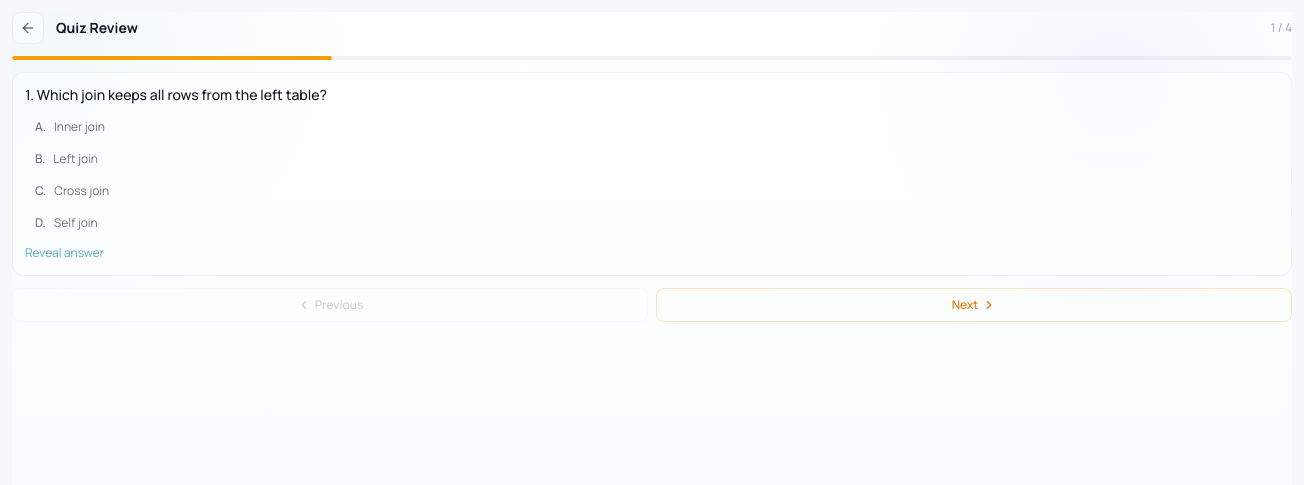
Test: QuizReviewMode › records a review assessment after revealing the answer
The width and height of the screenshot is (1304, 485).
Click the button "Reveal answer" at (65, 253), box [25,245,104,261]
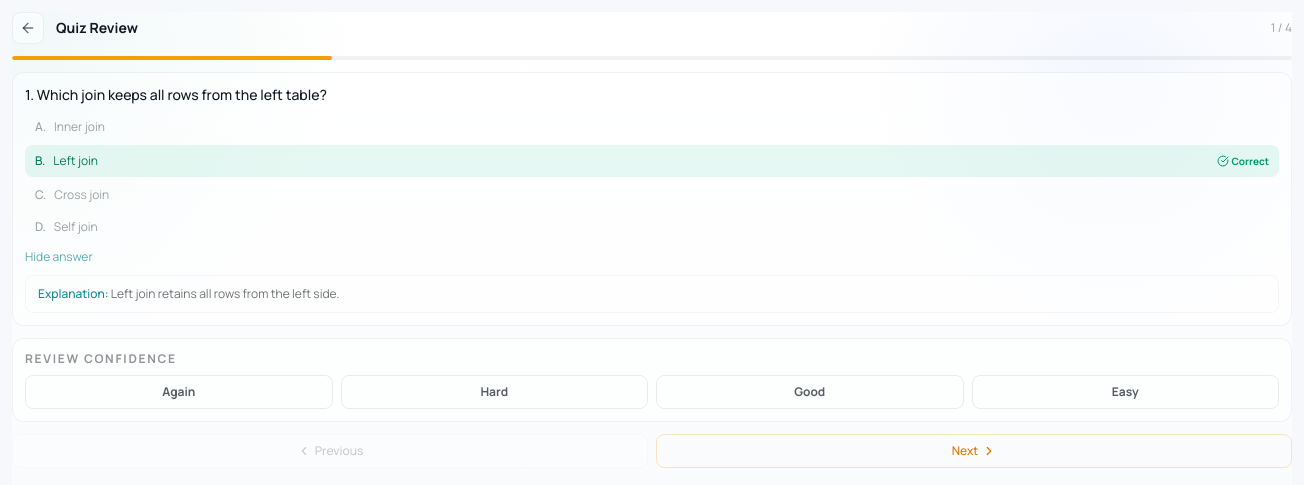
Click the button with test id "quiz-review-mark-good" at (810, 392), box [656,374,964,408]
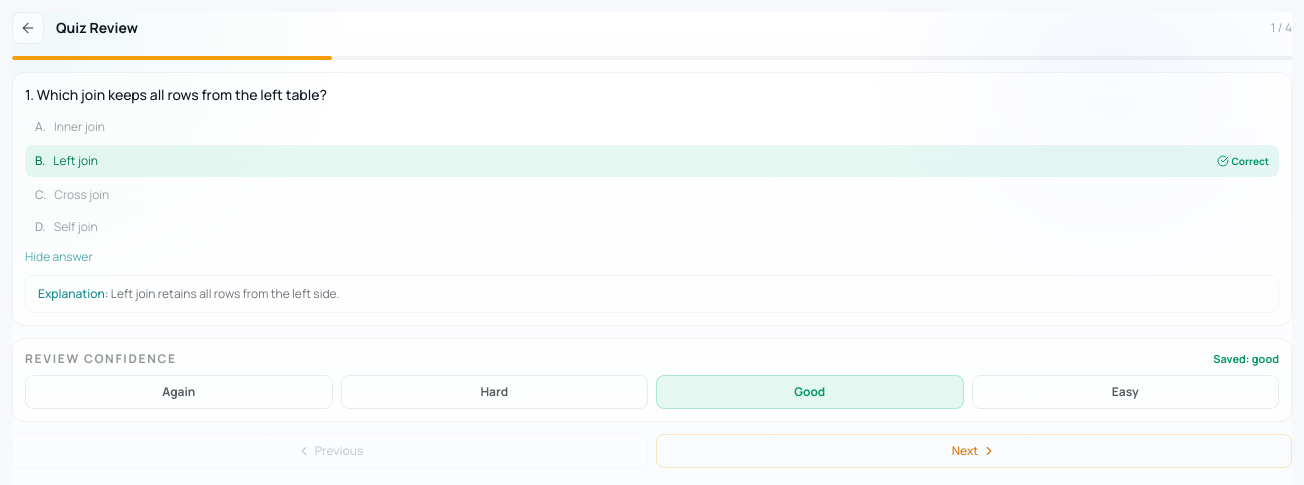
Expected: the text "Saved: good" is shown, [1213,350,1279,367]
